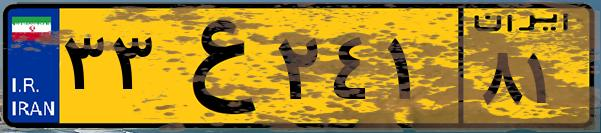1: (385, 28, 445, 110), (525, 38, 570, 115)
2: (270, 28, 330, 110)
3: (57, 26, 110, 100), (110, 28, 158, 98)
4: (330, 28, 385, 110)
8: (475, 38, 525, 113)
ع: (158, 12, 270, 120)
